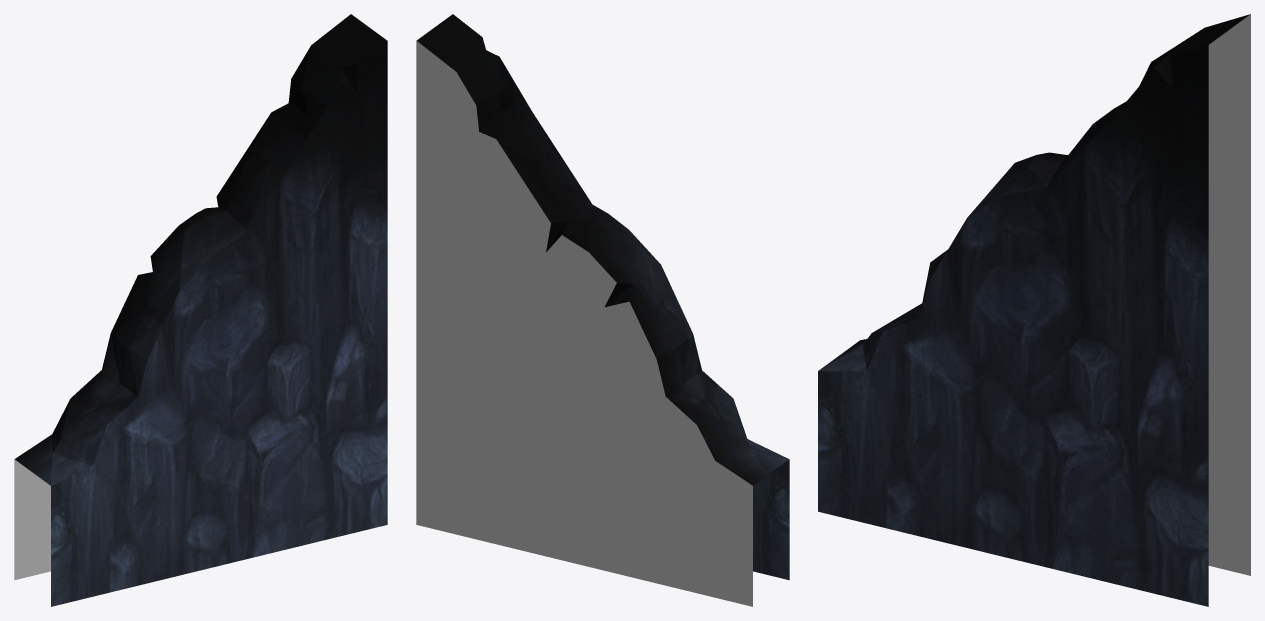
File: mine_fade_transition_06.fbx
3 renders of one model, left to right at view 1: azimuth 30°, elevation 25°; view 2: azimuth 150°, elevation 25°; view 3: azimuth 330°, elevation 25°, orthographic. The views are drawn at different scales.
Visible parts, largest first — view 1: mine_fade_transition_06-0; view 2: mine_fade_transition_06-0; view 3: mine_fade_transition_06-0.
Boxes of the visible parts, x1=… form: mine_fade_transition_06-0: x1=14, y1=14, x2=387, y2=606; mine_fade_transition_06-0: x1=416, y1=14, x2=789, y2=606; mine_fade_transition_06-0: x1=818, y1=14, x2=1250, y2=606.
Size of the model in its own units: 4 by 5.5 by 0.75.
